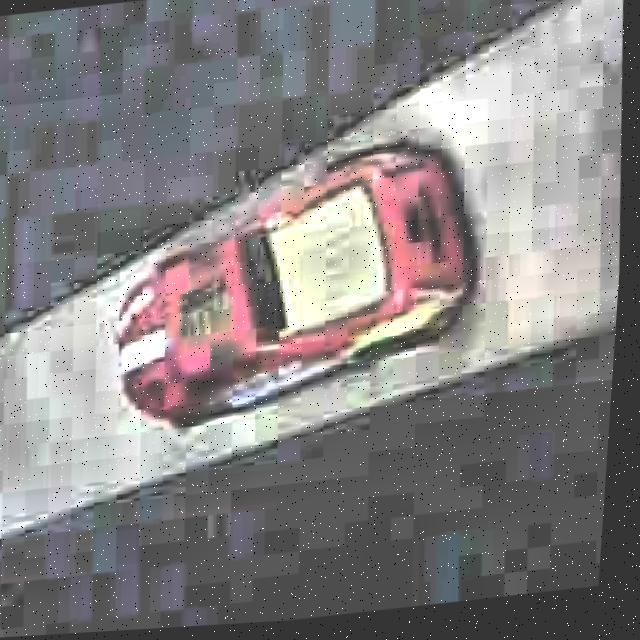car: (97, 128, 498, 438)
